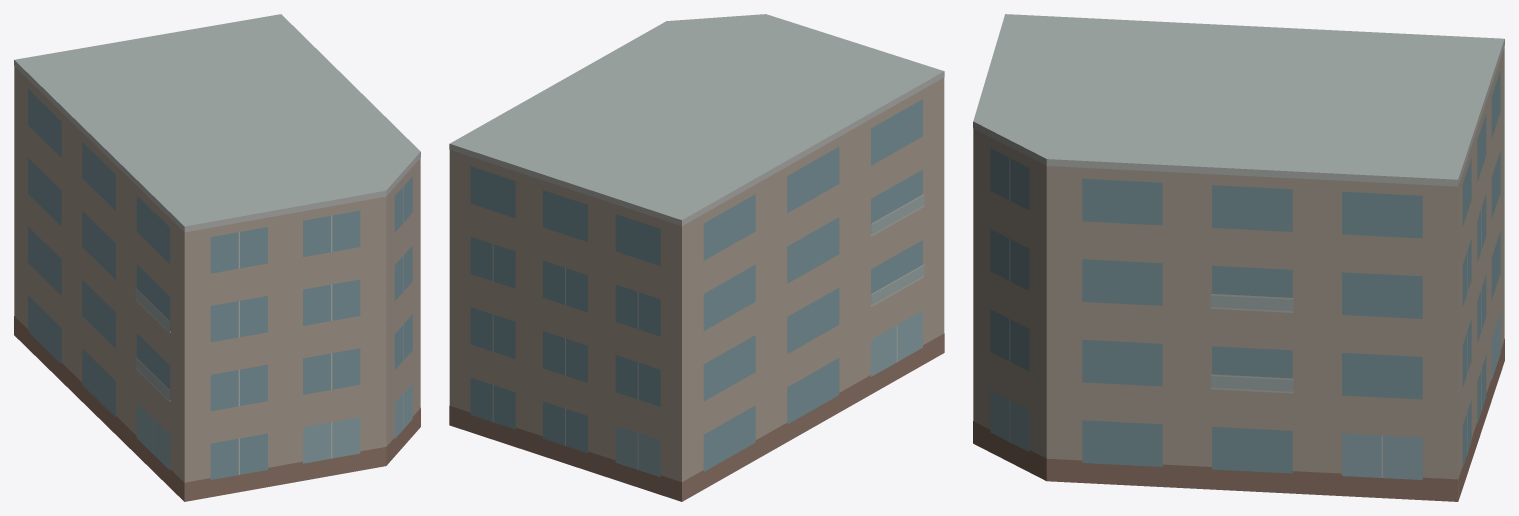
The model's file is survey-upis-32802422.glb.
3 views of the same model, side by side, from view 1: azimuth 30°, elevation 25°; view 2: azimuth 150°, elevation 25°; view 3: azimuth 270°, elevation 25° (orthographic). The views are drawn at different scales.
Parts seen in each view (by area): view 1: survey-upis-32802422.tmp; view 2: survey-upis-32802422.tmp; view 3: survey-upis-32802422.tmp.
Boxes of the visible parts, box(x1,y1,x2,y2) form: survey-upis-32802422.tmp: box(14, 14, 420, 501); survey-upis-32802422.tmp: box(449, 14, 944, 501); survey-upis-32802422.tmp: box(973, 14, 1504, 501).
Bounding box in the file's own units: 12.62 × 11.43 × 17.1.
